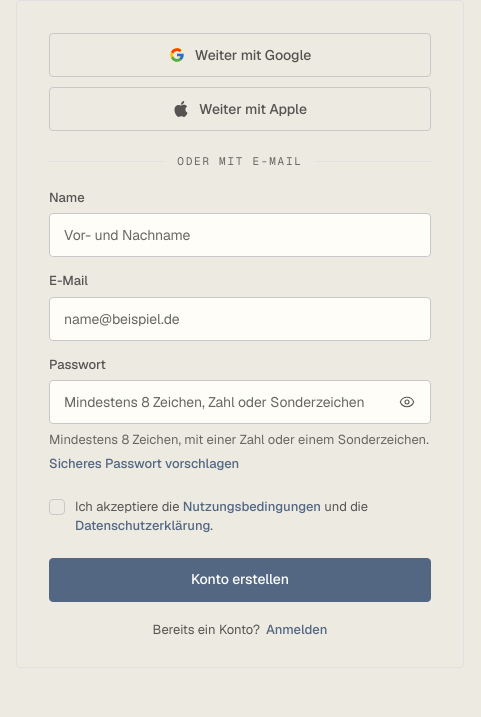
Test: CreateAccountForm › submit button › announces the loading state while registering
The width and height of the screenshot is (481, 717).
Type "Ramon Saavedra" into the field labelled "Name" at (240, 235), box [49, 213, 431, 257]
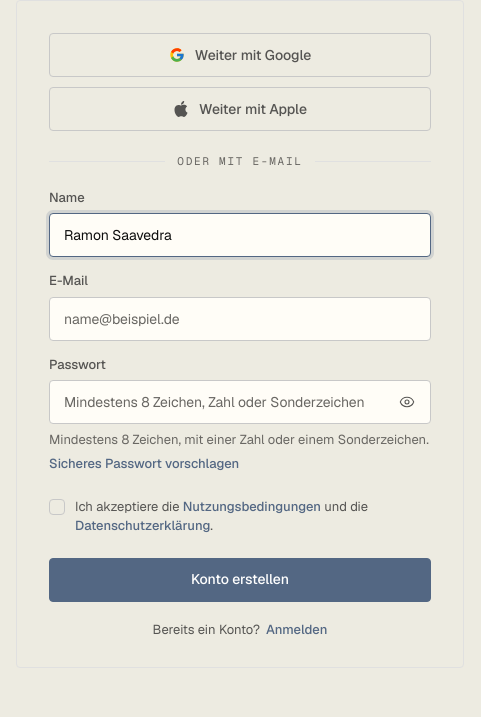
Type "ramon@test.de" into the field labelled "E-Mail" at (240, 318), box [49, 296, 431, 340]
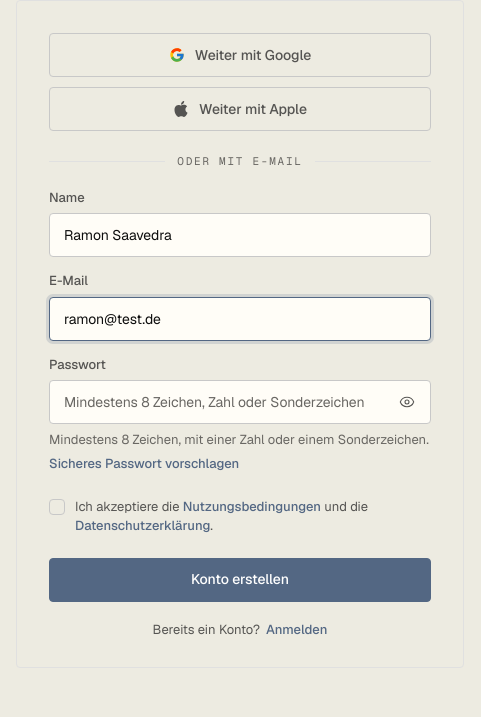
Type "Secure123" into the password field labelled "Passwort" at (240, 402), box [49, 380, 431, 424]
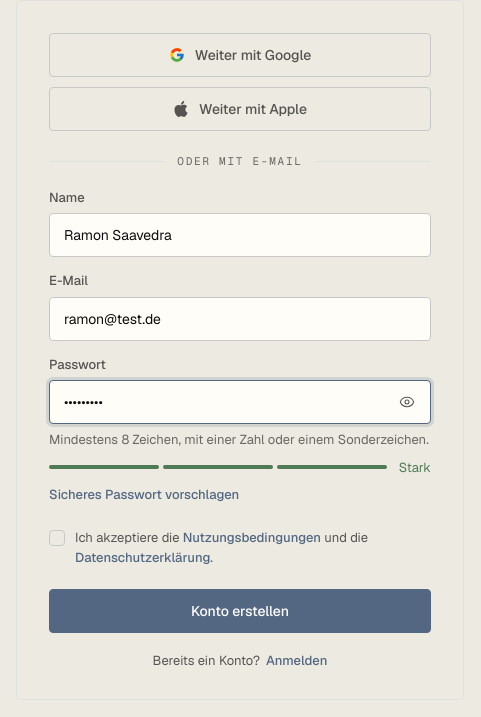
Click the checkbox with id "test-terms" at (57, 538), box [49, 530, 65, 546]
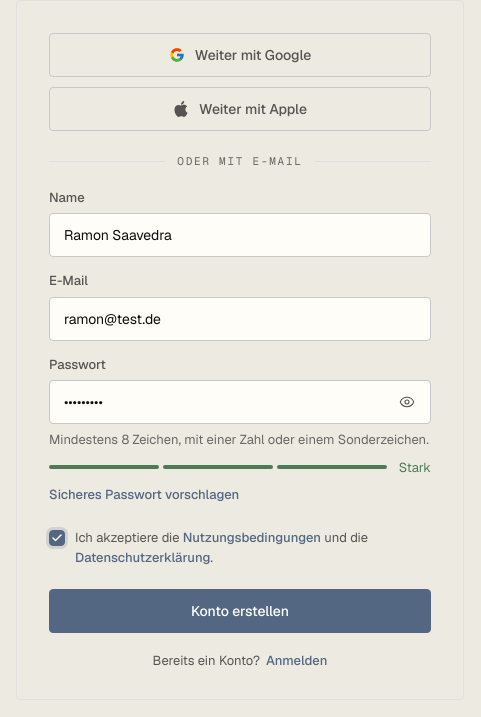
Click the button "Konto erstellen" at (240, 611), box [49, 589, 431, 633]
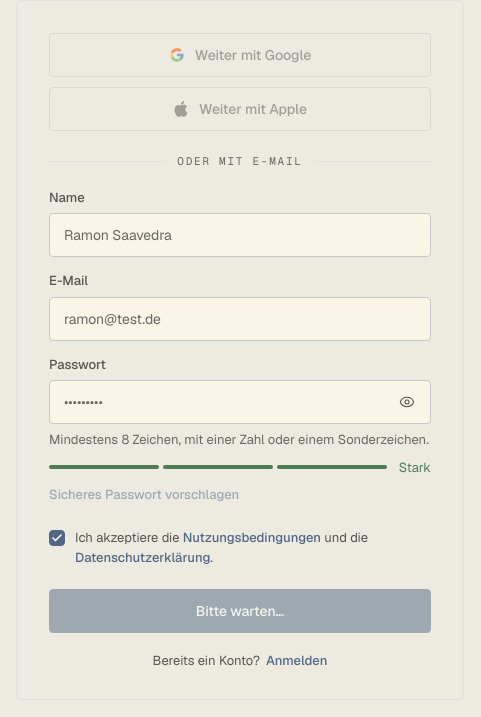
Now the button "Bitte warten…" is disabled, box [49, 589, 431, 633]
